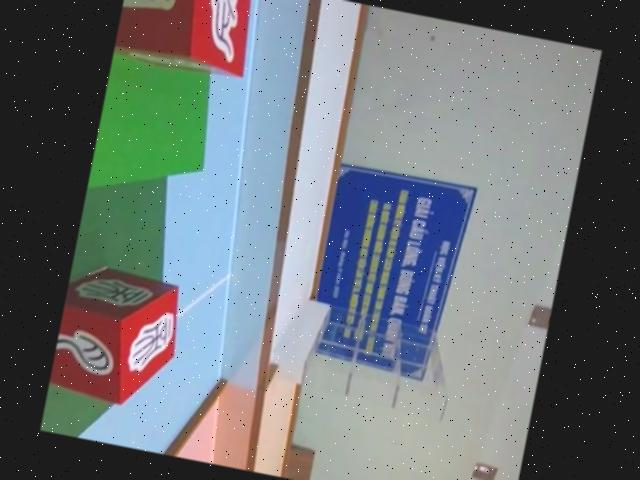R2 Fake: (47, 262, 186, 410), (112, 0, 260, 75)
